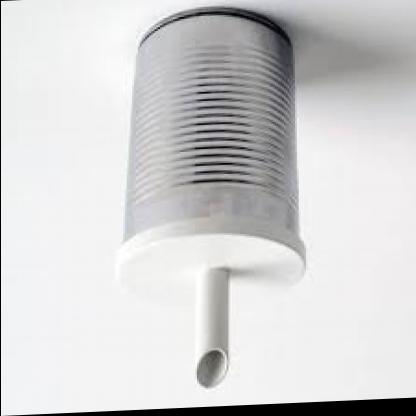Metal: (116, 11, 320, 399)
